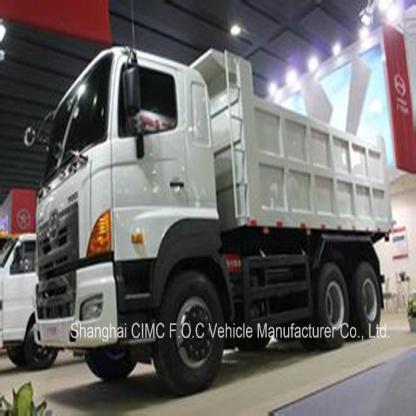dump_truck: (20, 38, 393, 374)
